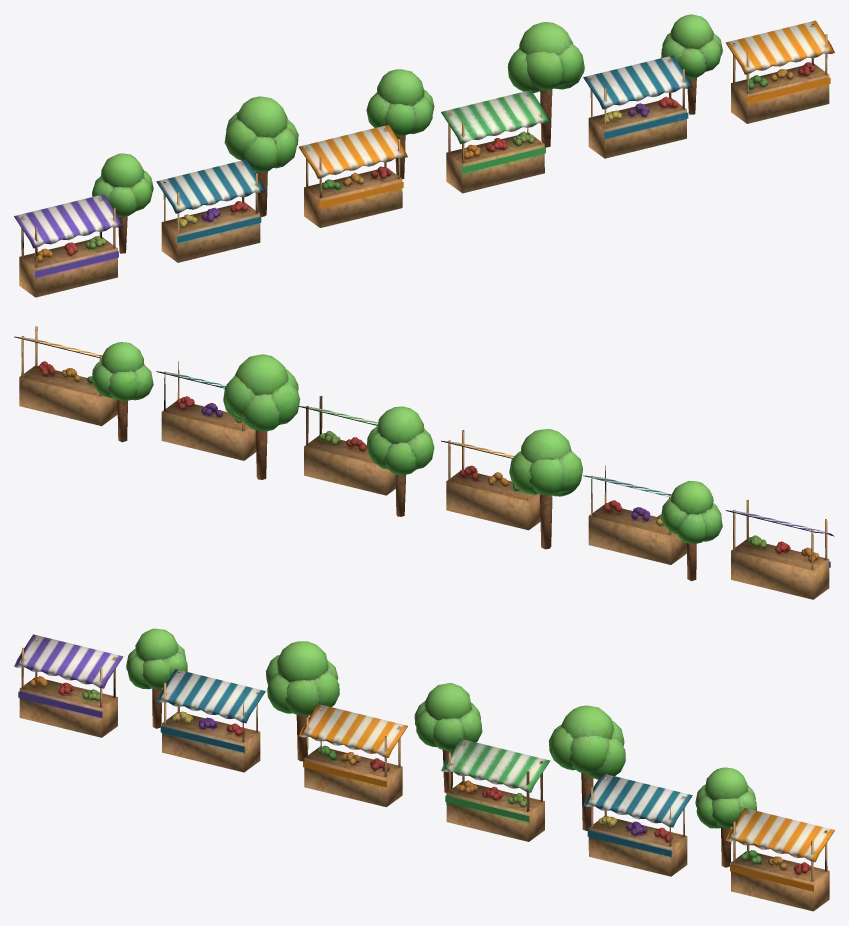
File: stalls.glb
The picture shows the model from 3 angles, top to bottom: view 1: azimuth 30°, elevation 25°; view 2: azimuth 150°, elevation 25°; view 3: azimuth 330°, elevation 25°; orthographic projection.
Visible parts, largest first — view 1: stalls; view 2: stalls; view 3: stalls.
Part boxes in pixels (x1,y1,x2,y2): stalls: (14, 14, 834, 297); stalls: (14, 326, 834, 599); stalls: (14, 628, 834, 911).
Size of the model in its own units: 67.6 by 9.75 by 7.23.
Materials: 1 (1 with a texture image).
